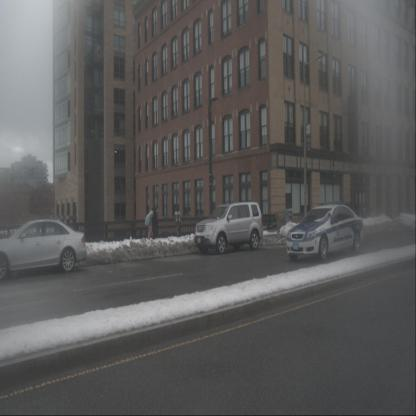human-pedestrian-adult: (145, 206, 155, 242), (153, 206, 160, 242)
vehicle-car: (0, 219, 87, 281), (194, 202, 263, 255)
